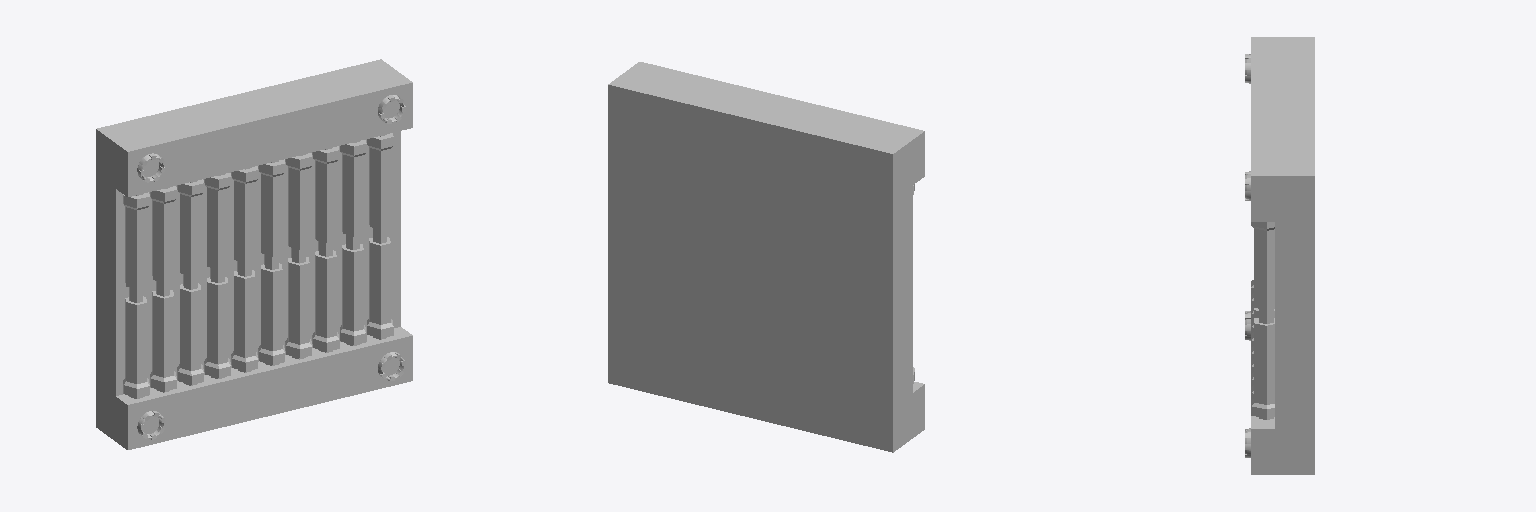
File: panel2.OBJ
3 views of the same model, side by side, from view 1: azimuth 30°, elevation 25°; view 2: azimuth 150°, elevation 25°; view 3: azimuth 270°, elevation 25° (orthographic).
Visible parts, largest first — view 1: Group61813, Group38154, Group64940; view 2: Group61813; view 3: Group61813, Group38154, Group64940.
Boxes of the visible parts, box(x1,y1,x2,y2) form: Group61813: box(96, 59, 412, 449); Group38154: box(123, 133, 393, 398); Group64940: box(137, 95, 405, 439); Group61813: box(608, 62, 924, 452); Group61813: box(1251, 37, 1314, 474); Group38154: box(1251, 222, 1274, 419); Group64940: box(1245, 54, 1250, 457).
Bounding box in the file's own units: 1.99 × 1.99 × 0.42.